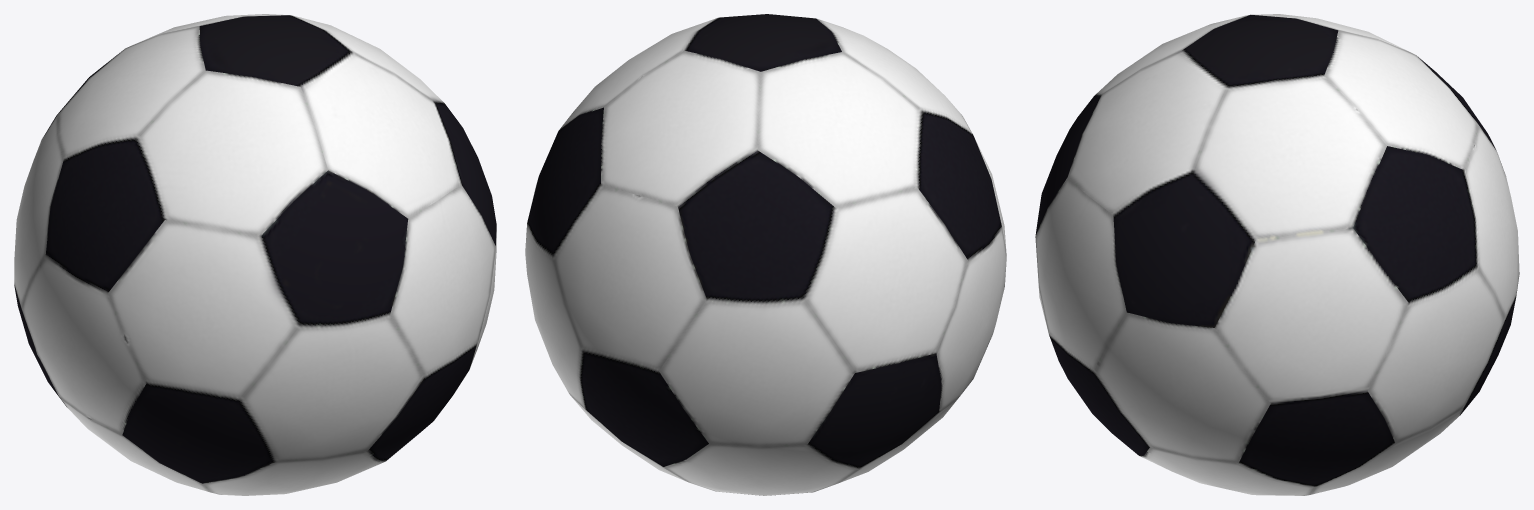
File: white_soccerball.glb
3 views of the same model, side by side, from view 1: azimuth 30°, elevation 25°; view 2: azimuth 150°, elevation 25°; view 3: azimuth 270°, elevation 25° (orthographic).
Parts seen in each view (by area): view 1: White_Soccerball; view 2: White_Soccerball; view 3: White_Soccerball.
Part boxes in pixels (<box>): White_Soccerball: <box>14,14,496,495</box>; White_Soccerball: <box>525,14,1006,495</box>; White_Soccerball: <box>1035,14,1519,495</box>.
Size of the model in its own units: 0.5743 by 0.5759 by 0.5751.
1 material, 1 textured.
